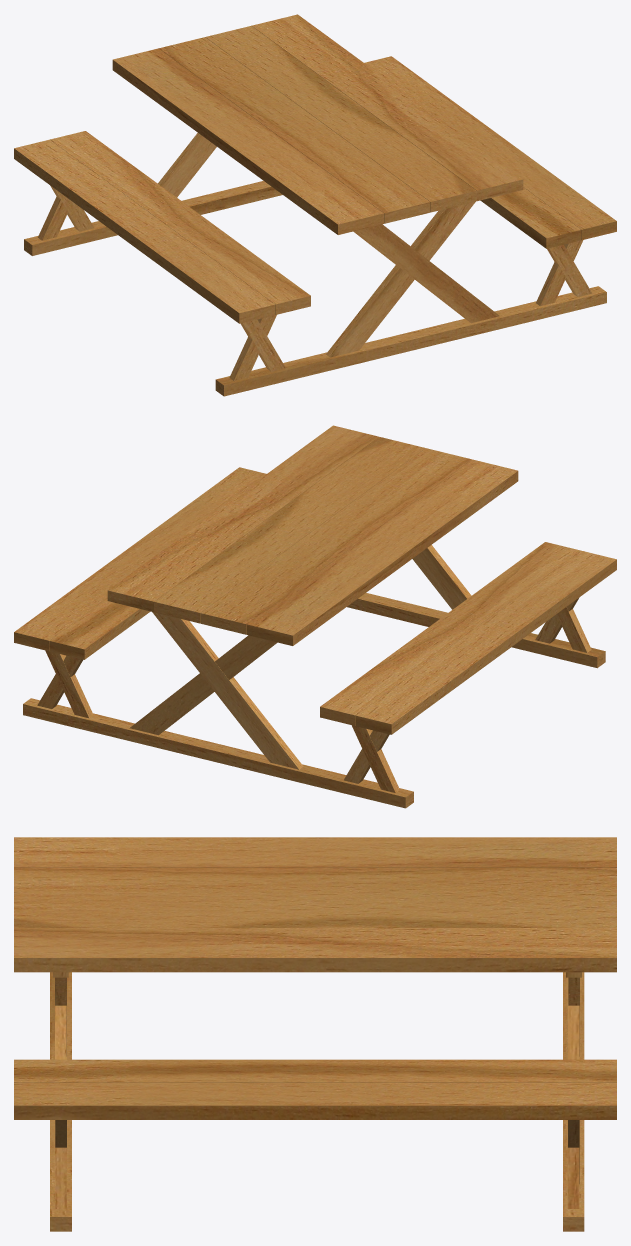
The model's file is masa_picnic.gltf.
3 views of the same model, one above another, from view 1: azimuth 30°, elevation 25°; view 2: azimuth 150°, elevation 25°; view 3: azimuth 270°, elevation 25° (orthographic). The views are drawn at different scales.
Visible parts, largest first — view 1: masa_003_picnic_completa; view 2: masa_003_picnic_completa; view 3: masa_003_picnic_completa.
Part boxes in pixels (bbox=[...]): masa_003_picnic_completa: bbox=[14, 14, 616, 396]; masa_003_picnic_completa: bbox=[14, 425, 616, 808]; masa_003_picnic_completa: bbox=[14, 837, 616, 1231].
Size of the model in its own units: 6.83 by 2.68 by 6.97.
Materials: 1 (1 with a texture image).
